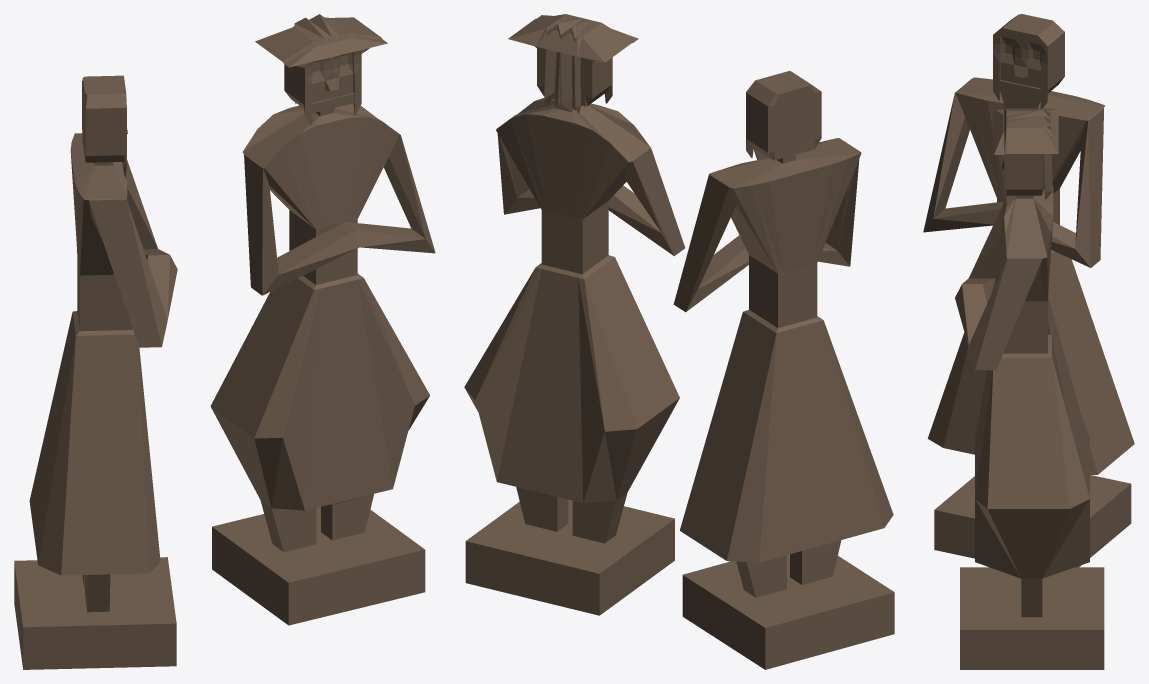
Rendered from Figurines_Pile_1209.fbx.
3 renders of one model, left to right at view 1: azimuth 30°, elevation 25°; view 2: azimuth 150°, elevation 25°; view 3: azimuth 270°, elevation 25°, orthographic. The views are drawn at different scales.
Visible parts, largest first — view 1: Figurine_Two, Figurine_One; view 2: Figurine_Two, Figurine_One; view 3: Figurine_Two, Figurine_One.
Part boxes in pixels (box(x1,y1,x2,y2)): Figurine_Two: box(210, 14, 435, 625); Figurine_One: box(14, 75, 177, 669); Figurine_Two: box(464, 14, 685, 615); Figurine_One: box(673, 71, 894, 669); Figurine_Two: box(955, 108, 1104, 669); Figurine_One: box(923, 14, 1134, 567).
Bounding box in the file's own units: 1965 × 2627 × 958.
